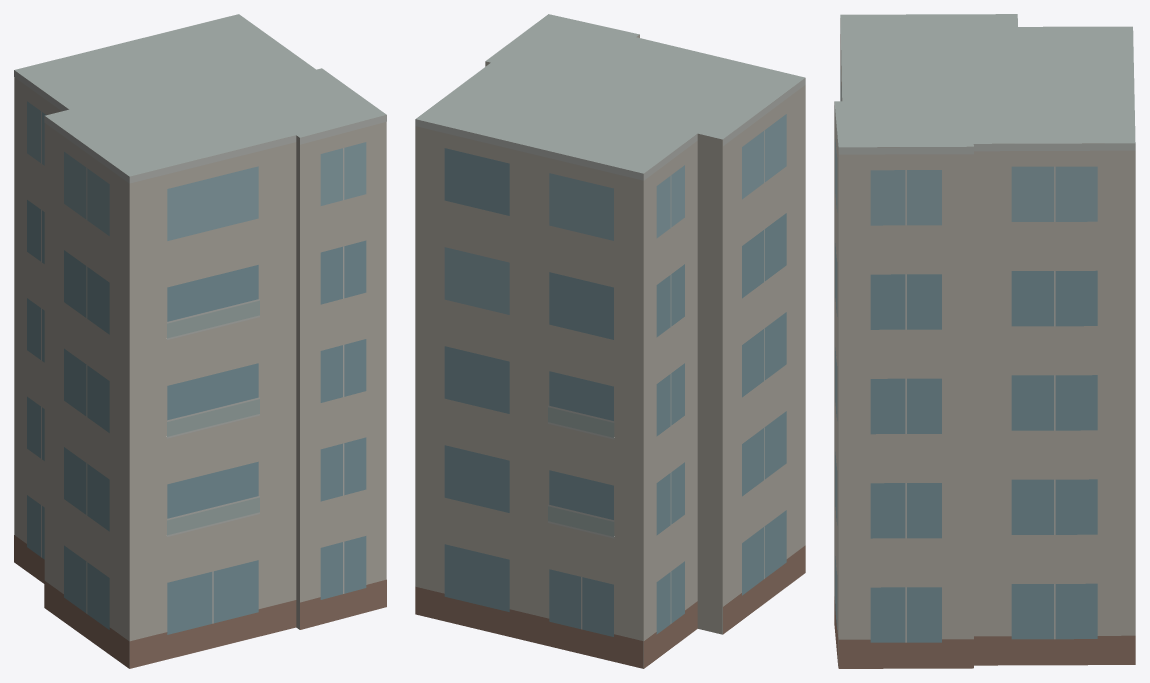
The model's file is survey-upis-32987012.glb.
3 views of the same model, side by side, from view 1: azimuth 30°, elevation 25°; view 2: azimuth 150°, elevation 25°; view 3: azimuth 270°, elevation 25° (orthographic). The views are drawn at different scales.
Parts seen in each view (by area): view 1: survey-upis-32987012.tmp; view 2: survey-upis-32987012.tmp; view 3: survey-upis-32987012.tmp.
Part boxes in pixels (left/top/right/bottom): survey-upis-32987012.tmp: left=14, top=14, right=386, bottom=668; survey-upis-32987012.tmp: left=415, top=14, right=805, bottom=668; survey-upis-32987012.tmp: left=834, top=14, right=1135, bottom=668.
Size of the model in its own units: 9.43 by 17.2 by 9.01.
